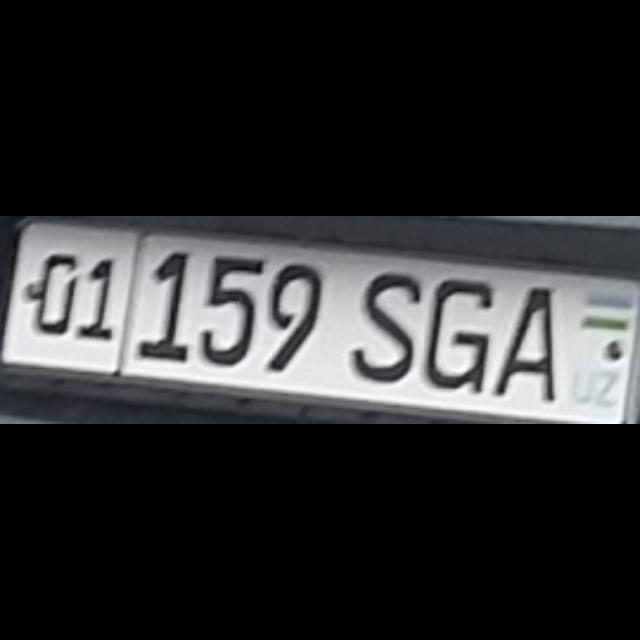0: (36, 252, 76, 332)
1: (135, 247, 187, 356), (76, 254, 112, 336)
5: (201, 254, 263, 362)
9: (266, 262, 318, 371)
A: (492, 284, 550, 396)
G: (424, 277, 490, 388)
S: (348, 268, 418, 382)
